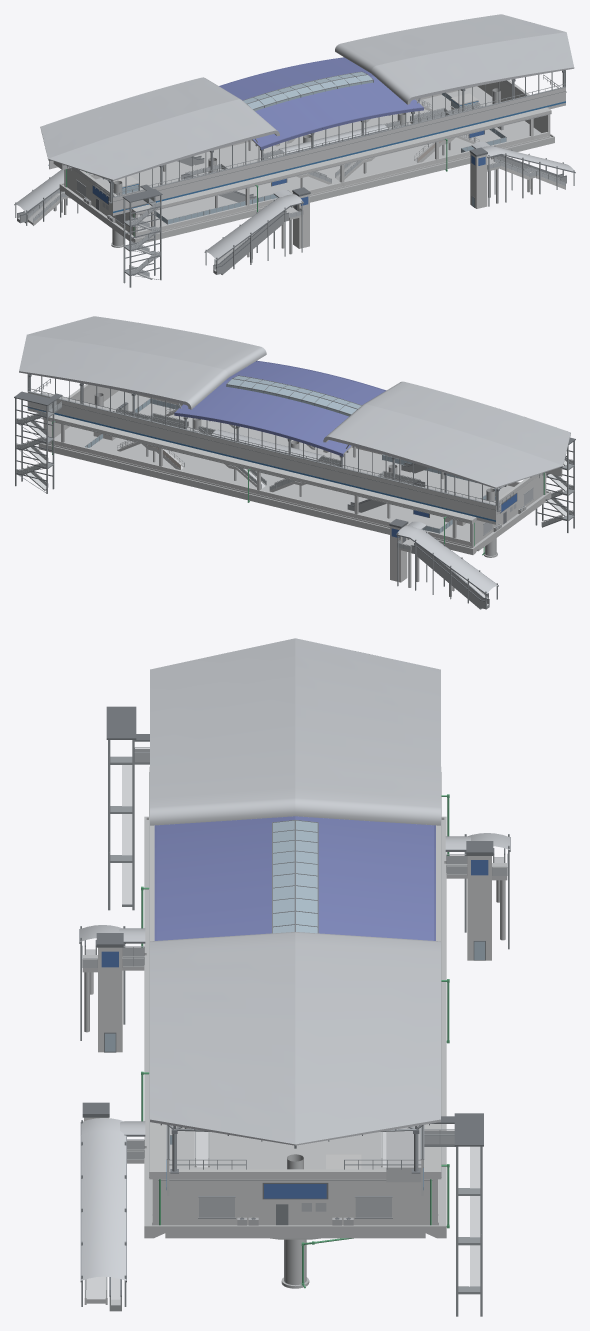
The picture shows the model from 3 angles, top to bottom: view 1: azimuth 30°, elevation 25°; view 2: azimuth 150°, elevation 25°; view 3: azimuth 270°, elevation 25°; orthographic projection. The views are drawn at different scales.
Parts seen in each view (by area): view 1: BL34, BL34_conc, BL34_access; view 2: BL34, BL34_conc, BL34_access; view 3: BL34, BL34_conc, BL34_access.
Part boxes in pixels (x1,y1,x2,y2): BL34: [40, 14, 574, 215]; BL34_conc: [59, 80, 554, 247]; BL34_access: [14, 93, 575, 287]; BL34: [19, 316, 570, 524]; BL34_conc: [38, 384, 551, 557]; BL34_access: [14, 391, 575, 609]; BL34: [150, 638, 440, 1195]; BL34_conc: [144, 766, 446, 1288]; BL34_access: [79, 706, 510, 1316].
Bounding box in the file's own units: 126 × 28 × 45.36.
